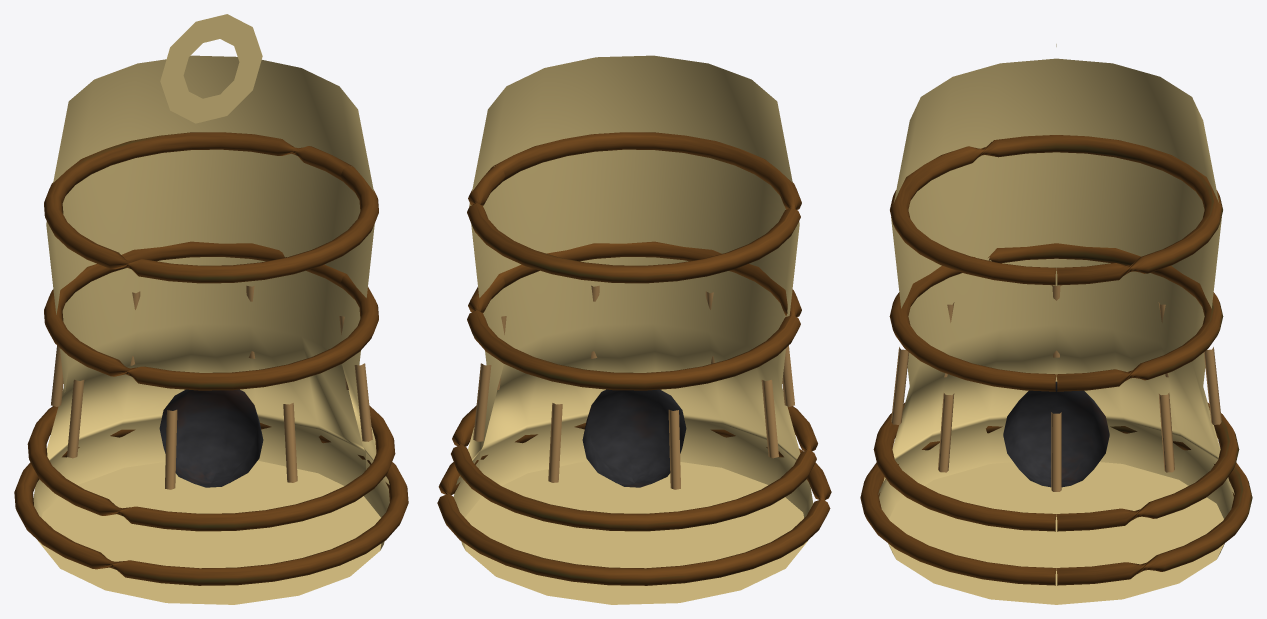
Rendered from copper_bell.glb.
3 renders of one model, left to right at view 1: azimuth 30°, elevation 25°; view 2: azimuth 150°, elevation 25°; view 3: azimuth 270°, elevation 25°, orthographic.
Parts seen in each view (by area): view 1: Bell, Art_OxidizedBrass, Clapper, Loop, Art_OldGoldThread; view 2: Bell, Art_OxidizedBrass, Clapper, Art_OldGoldThread; view 3: Bell, Art_OxidizedBrass, Clapper, Art_OldGoldThread.
Boxes of the visible parts, x1,y1,x2,y2 form: Bell: (33,55,389,604); Art_OxidizedBrass: (14,132,408,585); Clapper: (159,389,263,487); Loop: (160,14,262,123); Art_OldGoldThread: (51,285,372,489); Bell: (453,55,813,604); Art_OxidizedBrass: (437,132,831,585); Clapper: (582,389,686,487); Art_OldGoldThread: (473,285,794,489); Bell: (878,58,1234,604); Art_OxidizedBrass: (860,135,1252,585); Clapper: (1003,381,1109,487); Art_OldGoldThread: (891,285,1221,491).
Bounding box in the file's own units: 0.147 × 0.2109 × 0.147.
4 materials, 2 textured.
